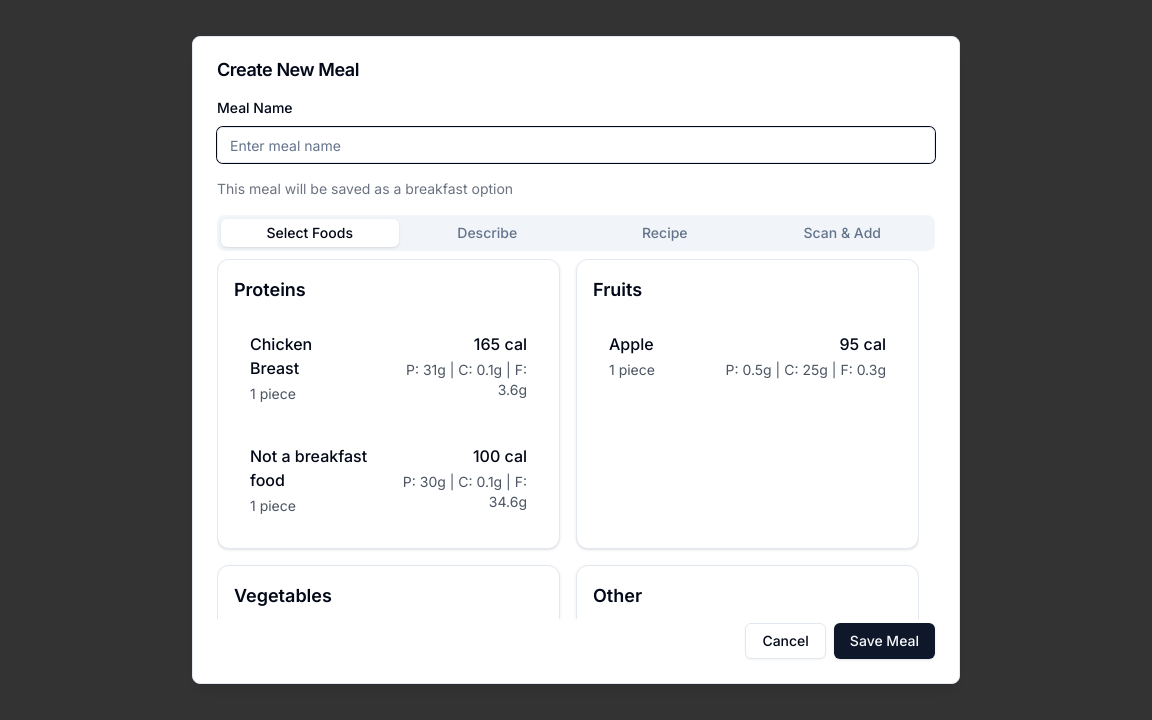
MealEditor › validates food selection before saving in select mode
Note: Enter name but don't select any foods
Type "Test Meal" into the field labelled "Meal Name" at x=576, y=145, box [217,127,935,163]
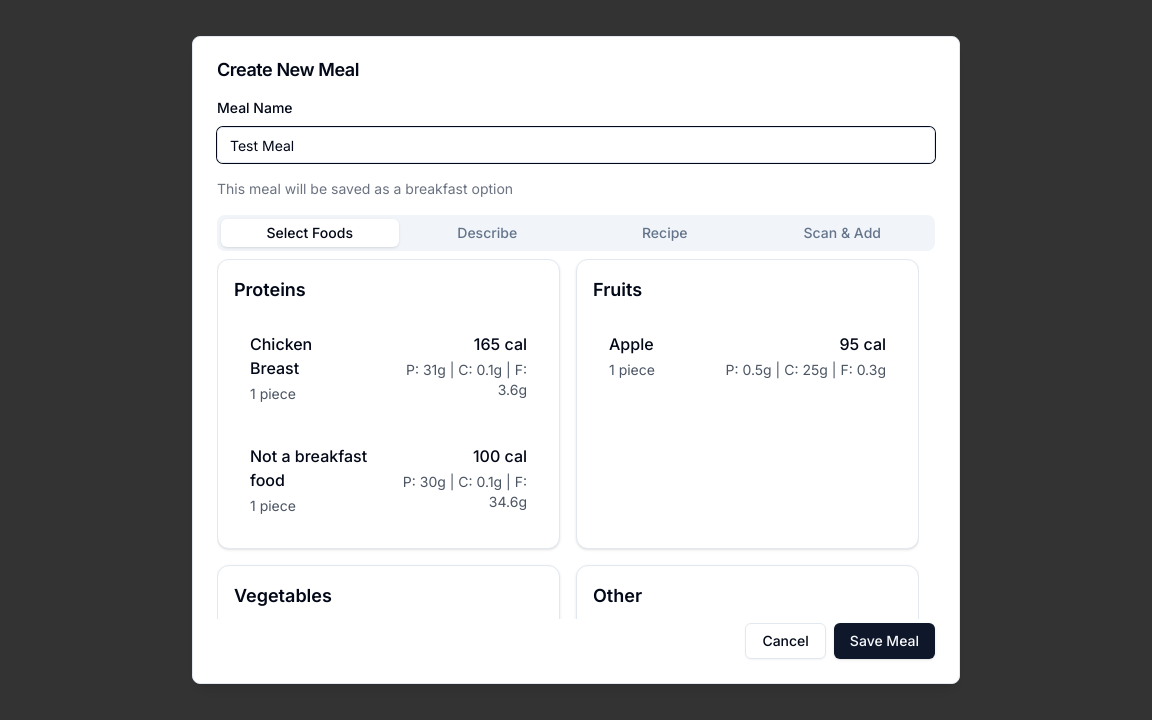
Click the button "Save Meal" at x=884, y=641, box [834,623,935,659]
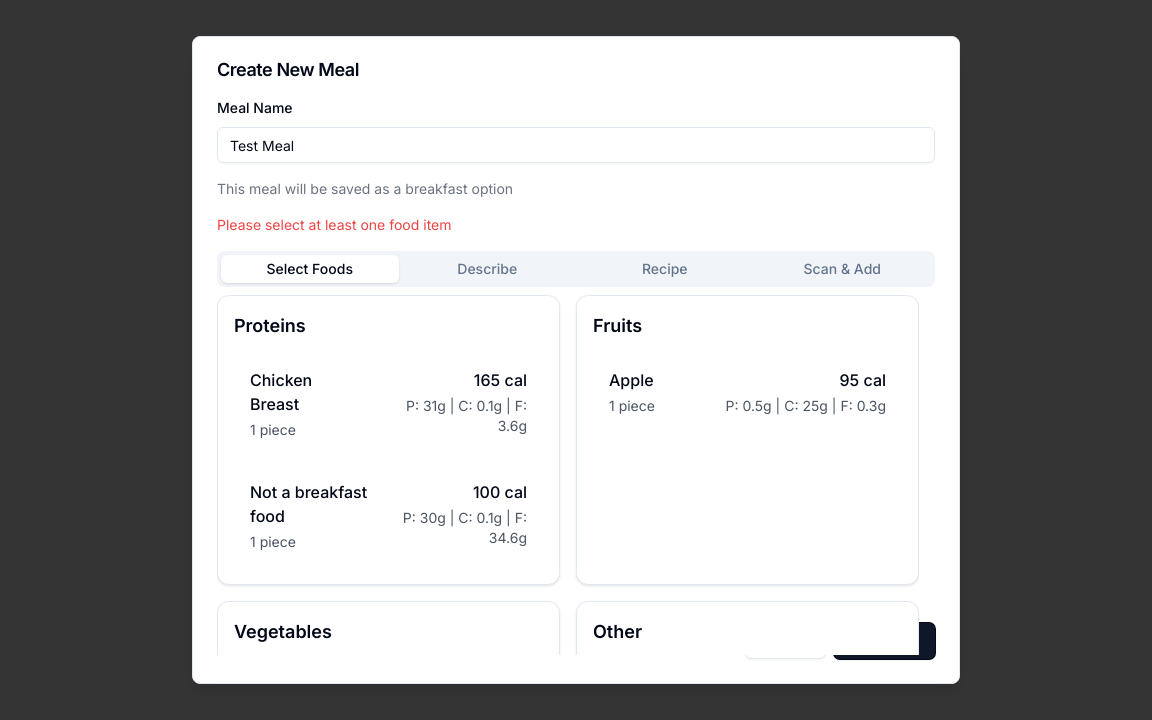
expect the text "Please select at least one food item" is shown: met, box [217,216,452,233]
